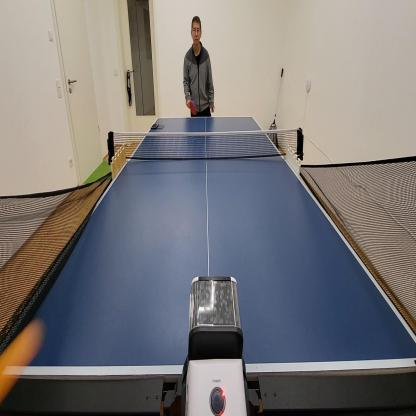Ball: (0, 318, 46, 408)
